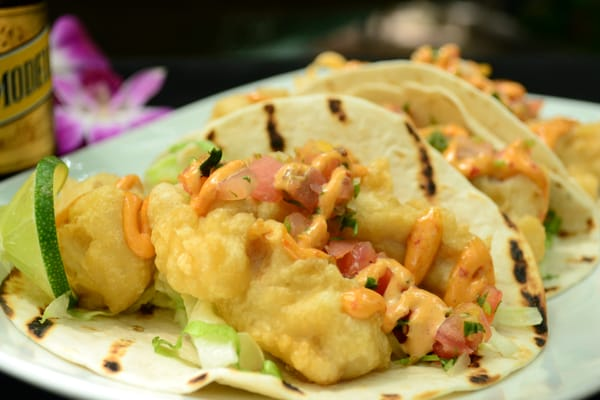soup: (136, 87, 575, 385)
